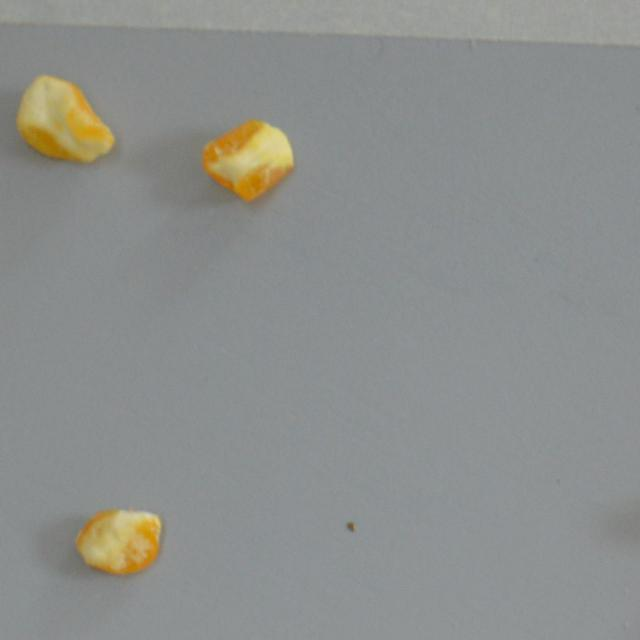dañado: (10, 64, 118, 165), (201, 115, 297, 206), (74, 501, 164, 580)
